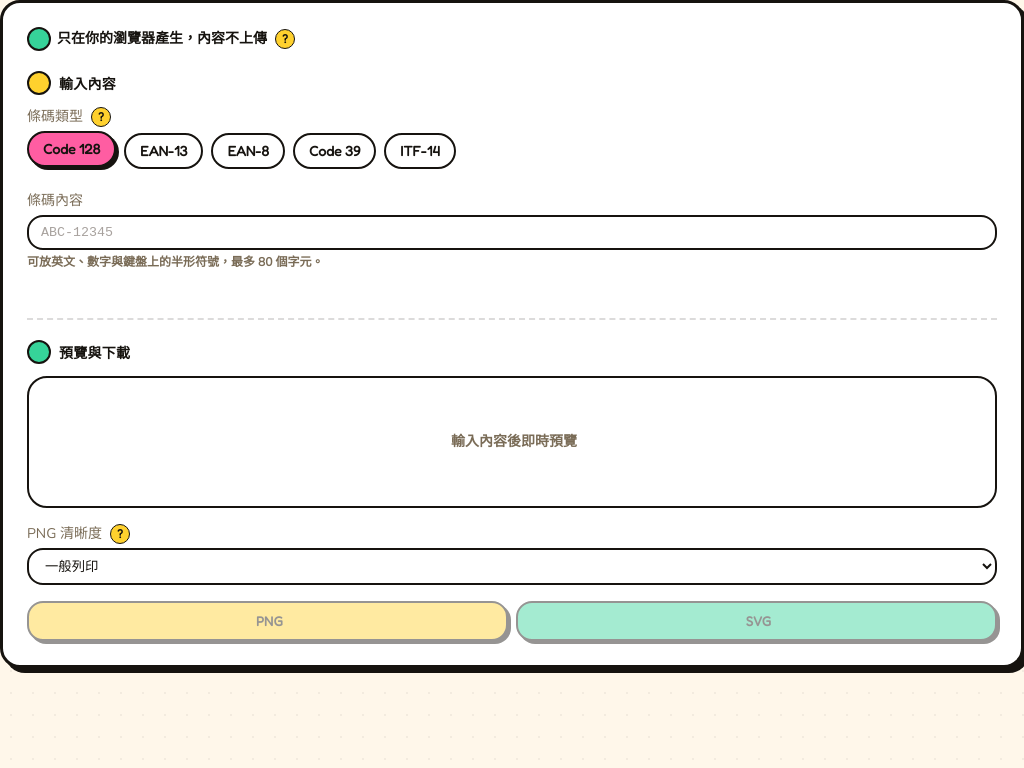
Test case: BarcodeTool › EAN-13 檢查碼錯誤時顯示明確提示並停用下載
The image size is (1024, 768).
Step 1. Click the radio button with test id "bc-radio-ean13" → click(164, 151), box [124, 133, 203, 169]
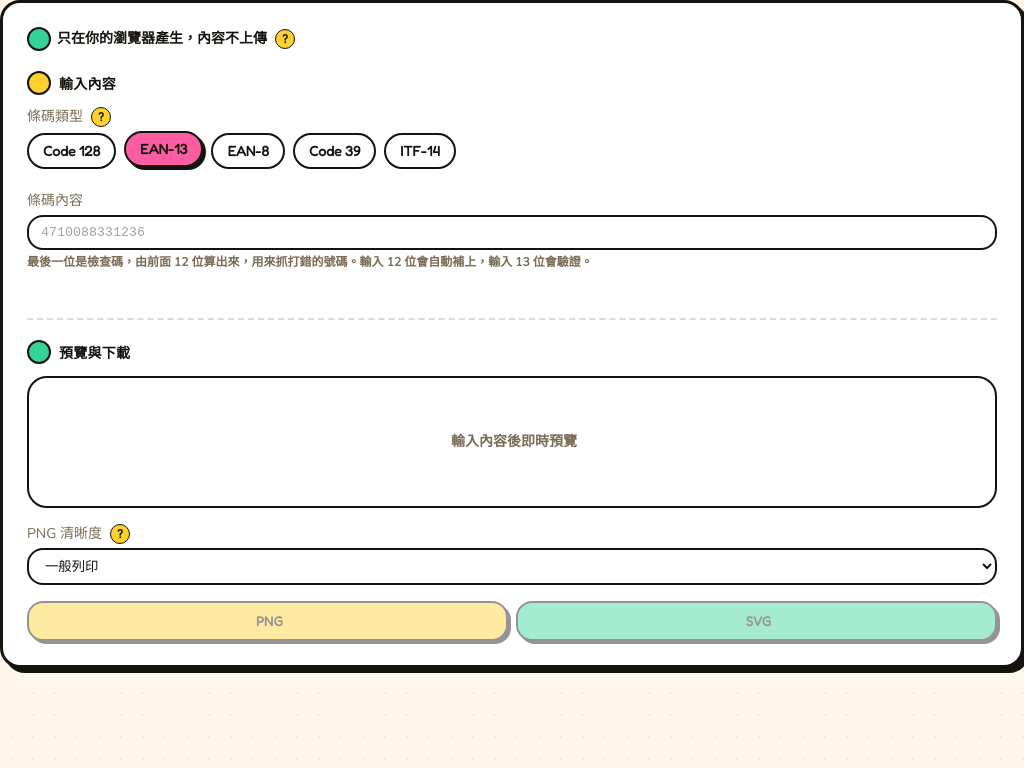
Step 2. Type "5449000000990" into the field with test id "bc-value" → (512, 232), box [27, 215, 997, 250]
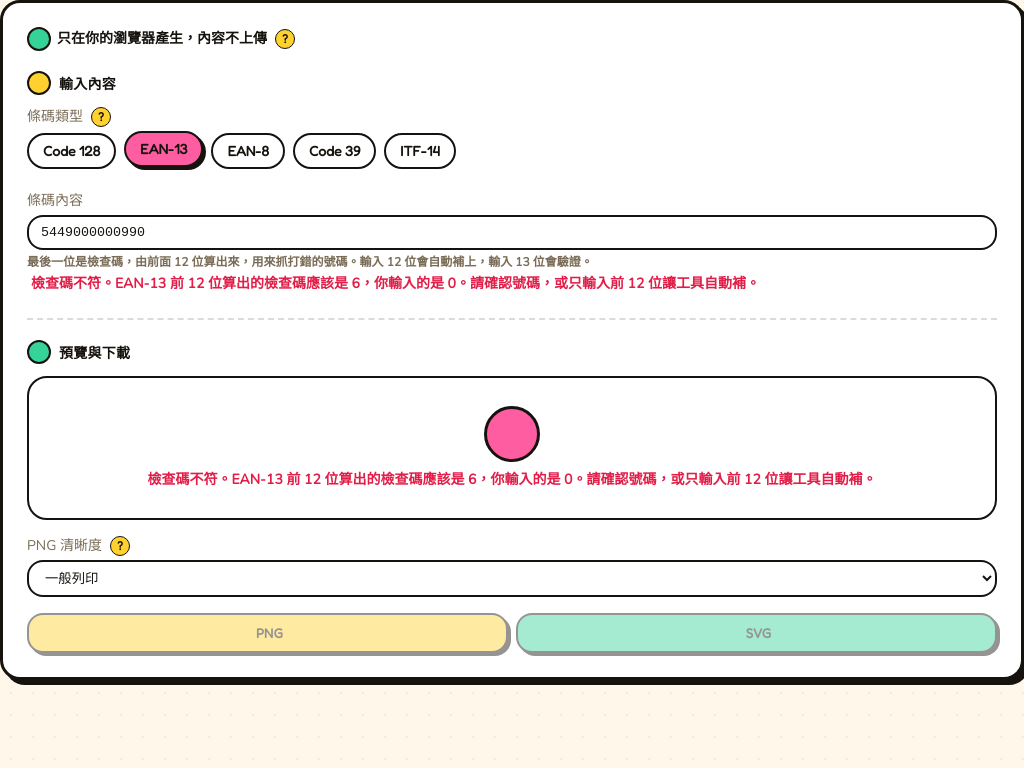
Now the element with test id "bc-error" shows "檢查碼不符", box [31, 274, 760, 293]
Now the element with test id "bc-error" shows "應該是 6", box [31, 274, 760, 293]
Now the element with test id "bc-error" shows "你輸入的是 0", box [31, 274, 760, 293]
